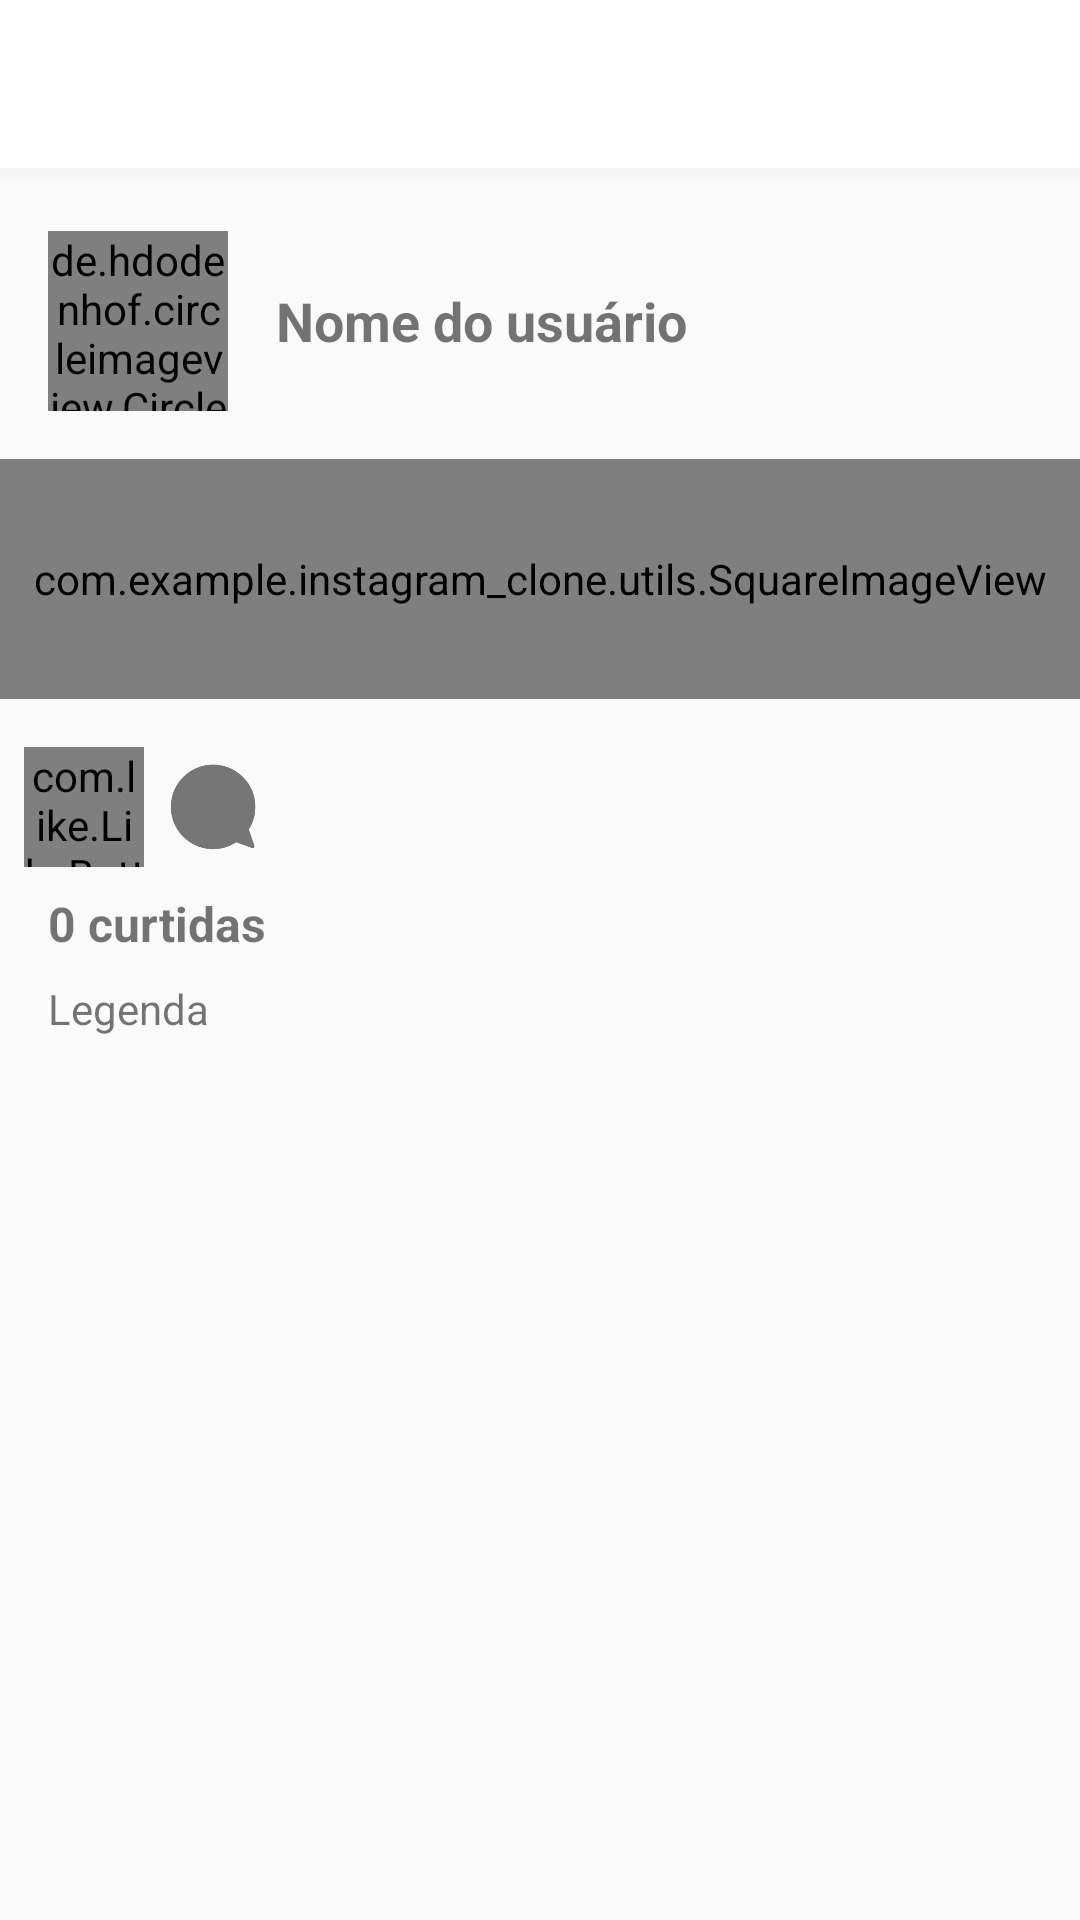

Icons on this 1080px x 1920px Android screen, each with the point to tap as [x,y]:
comment: [213,806]
